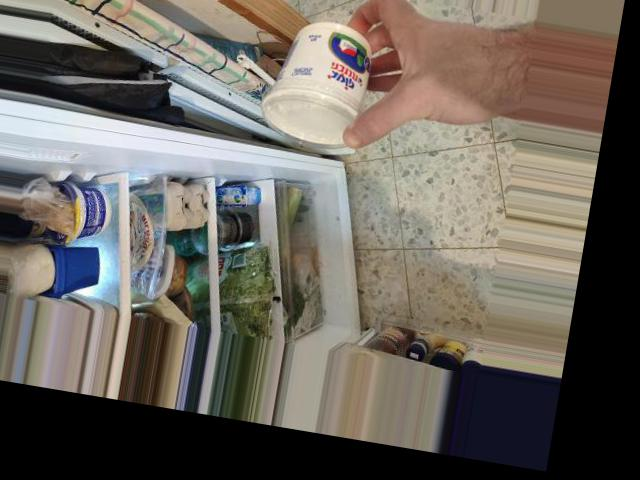cotage: (257, 18, 387, 151)
